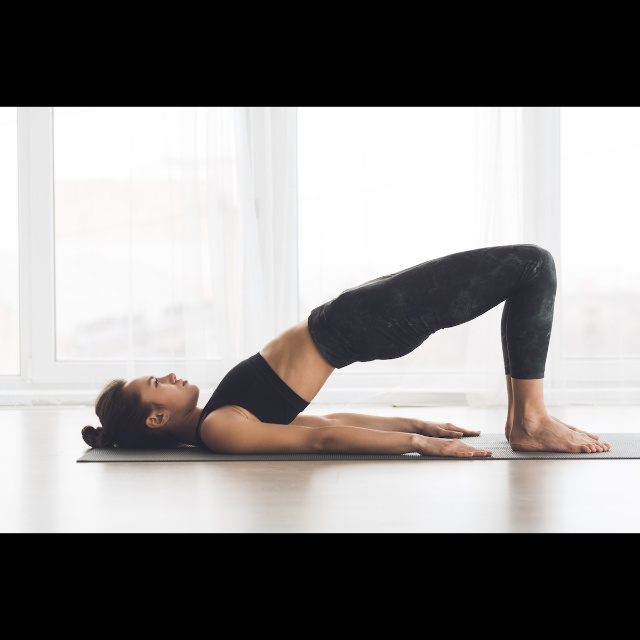Bridge_Pose: (79, 238, 613, 462)
